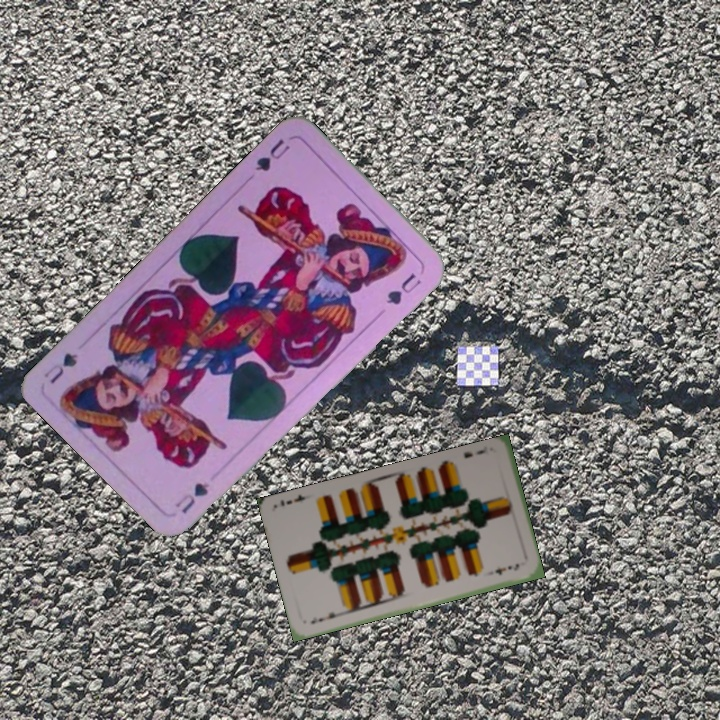E7: (307, 608, 344, 626), (460, 444, 489, 461)
GU: (251, 135, 293, 175), (171, 478, 212, 516)
